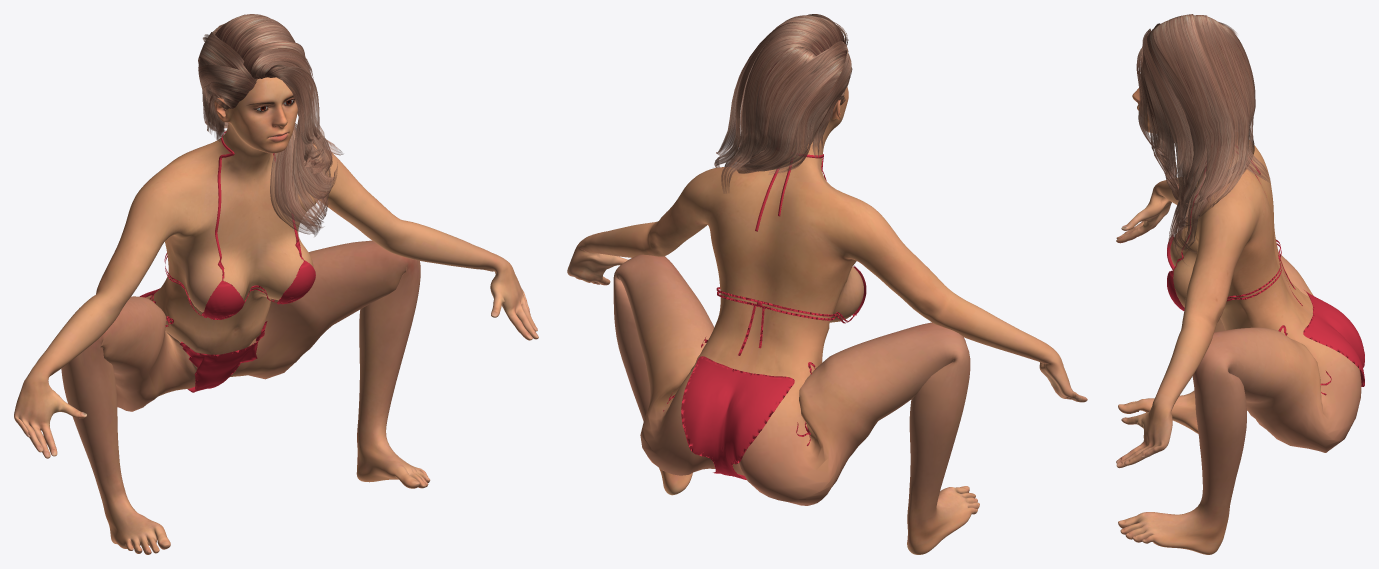
Rendered from female_squat_v3.glb.
3 views of the same model, side by side, from view 1: azimuth 30°, elevation 25°; view 2: azimuth 150°, elevation 25°; view 3: azimuth 270°, elevation 25° (orthographic). The views are drawn at different scales.
Visible parts, largest first — view 1: Body, Body.elvs_adrienne_hair, Bikini; view 2: Body, Body.elvs_adrienne_hair, Bikini; view 3: Body, Body.elvs_adrienne_hair, Bikini.
Boxes of the visible parts, x1,y1,x2,y2 form: Body: (14, 77, 538, 554); Body.elvs_adrienne_hair: (198, 14, 343, 236); Bikini: (139, 131, 315, 392); Body: (567, 67, 1087, 554); Body.elvs_adrienne_hair: (714, 14, 852, 193); Bikini: (663, 154, 866, 479); Body: (1116, 88, 1361, 554); Body.elvs_adrienne_hair: (1136, 14, 1270, 264); Bikini: (1167, 146, 1364, 395).
Size of the model in its own units: 1.16 by 1.09 by 0.5146.
8 materials, 7 textured.
